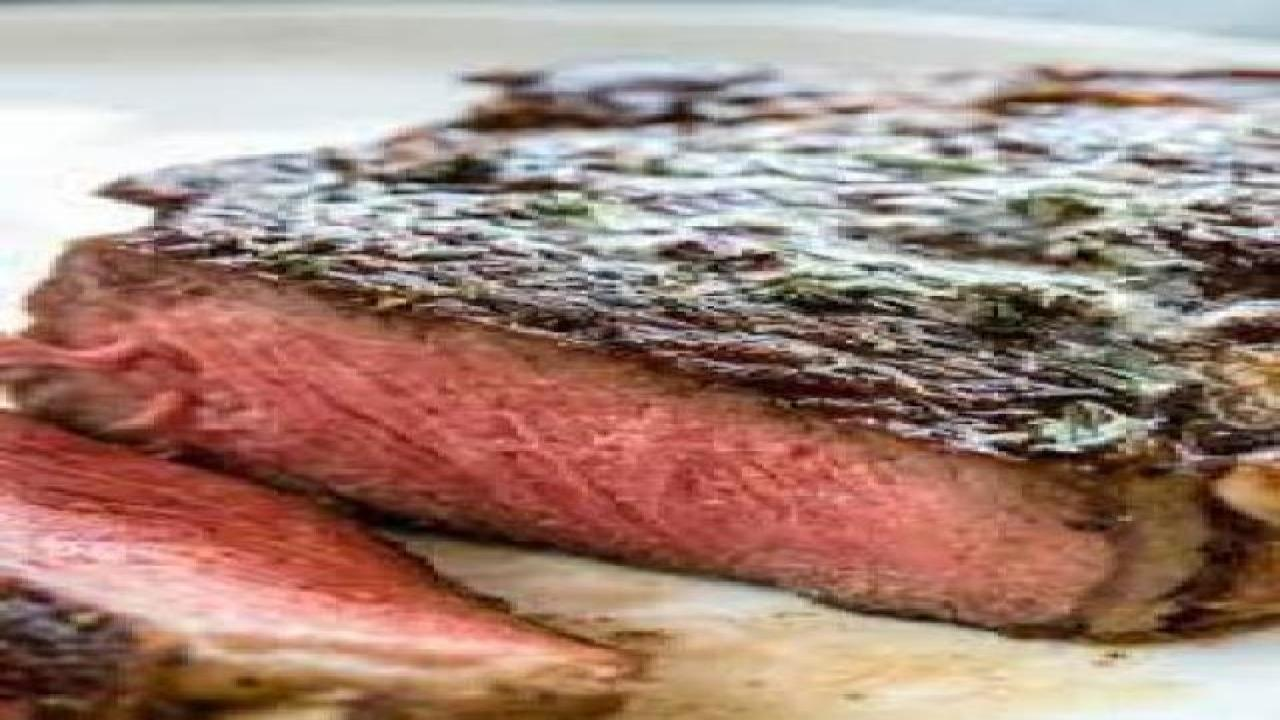Carne: (83, 15, 1280, 414), (0, 258, 1220, 646), (0, 410, 686, 691)
